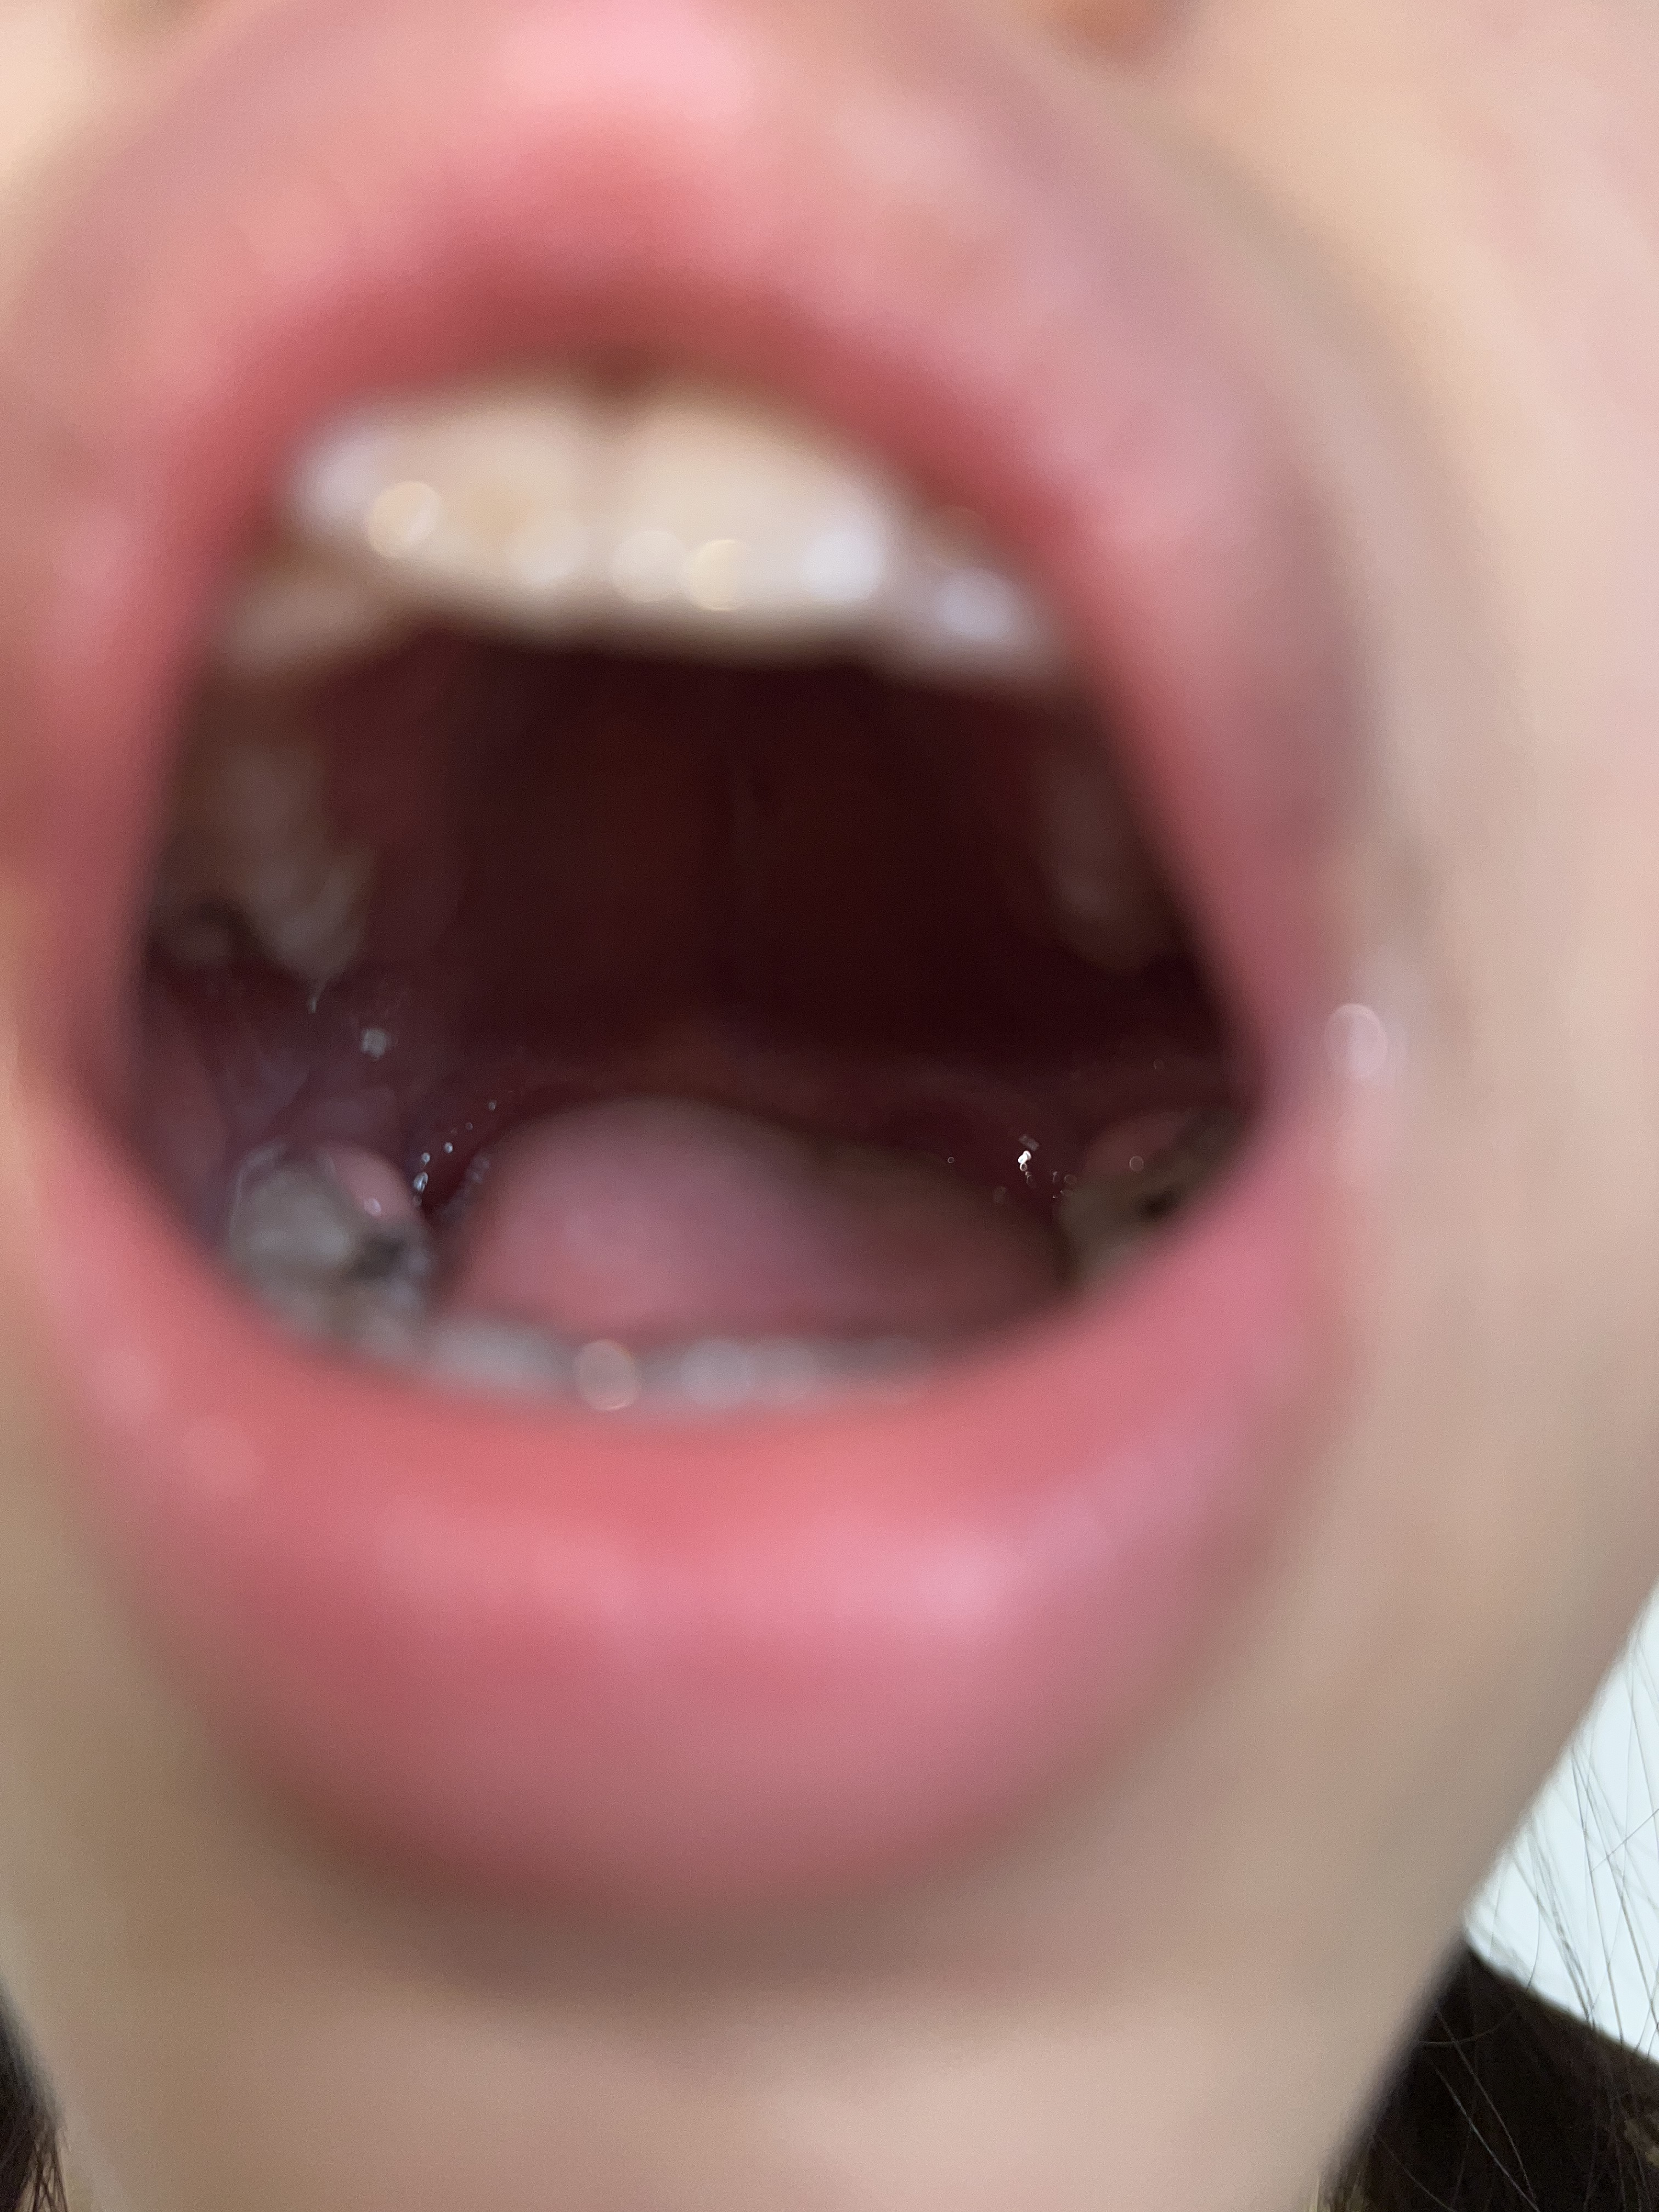teeth: (284, 388, 589, 589), (615, 388, 887, 597), (922, 568, 1032, 641)
